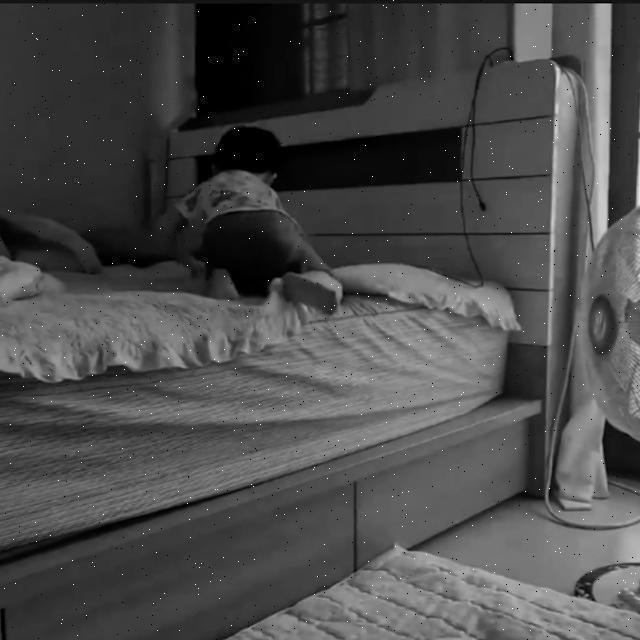child: (152, 123, 340, 313)
